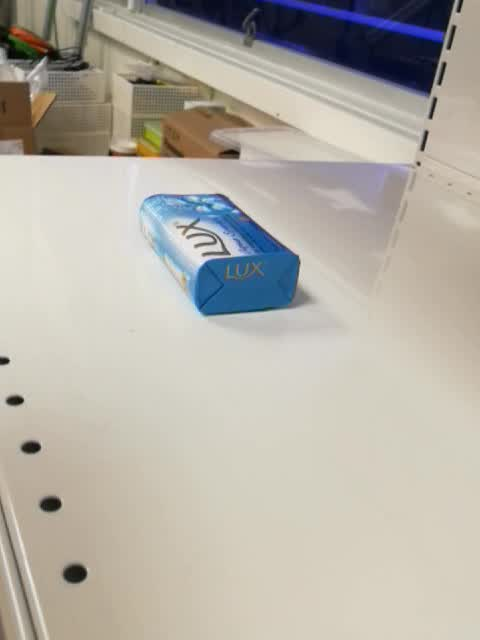soap: (138, 192, 300, 317)
